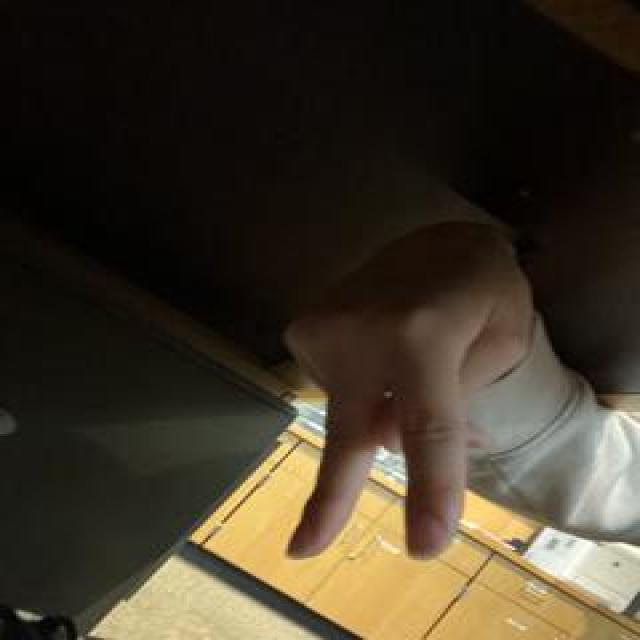P: (208, 167, 568, 567)
